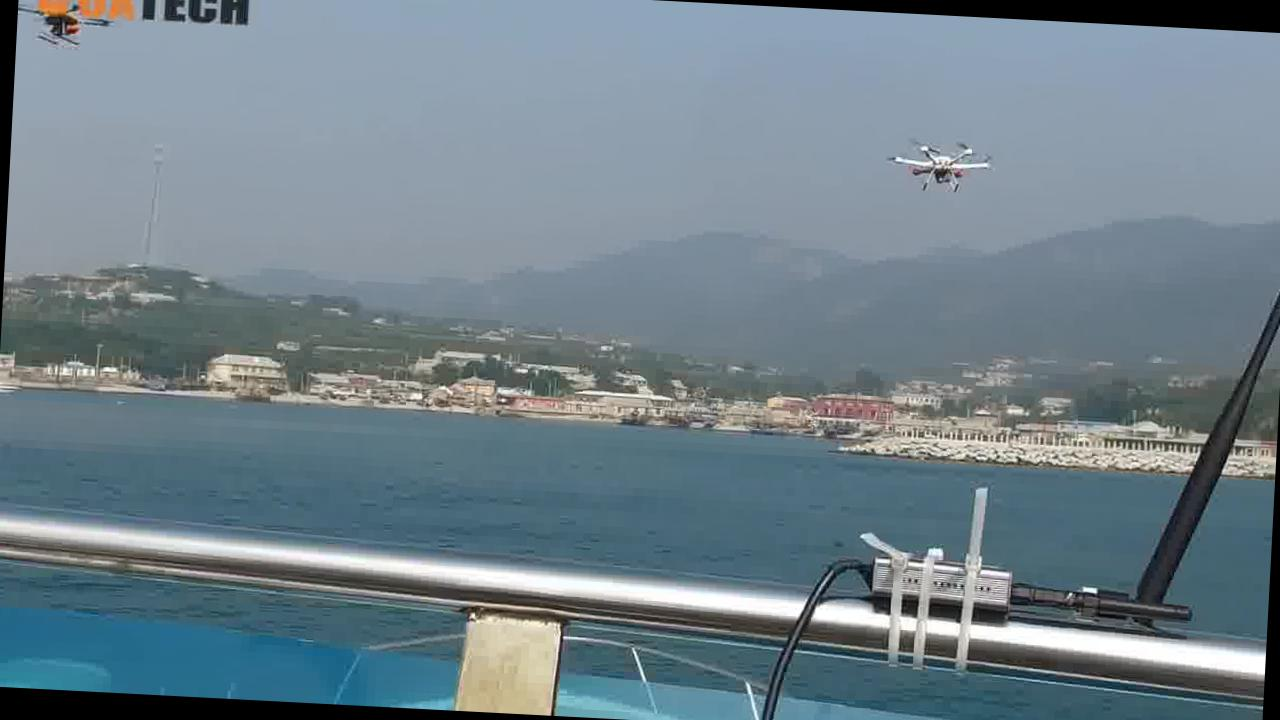drone: (879, 120, 1011, 203)
